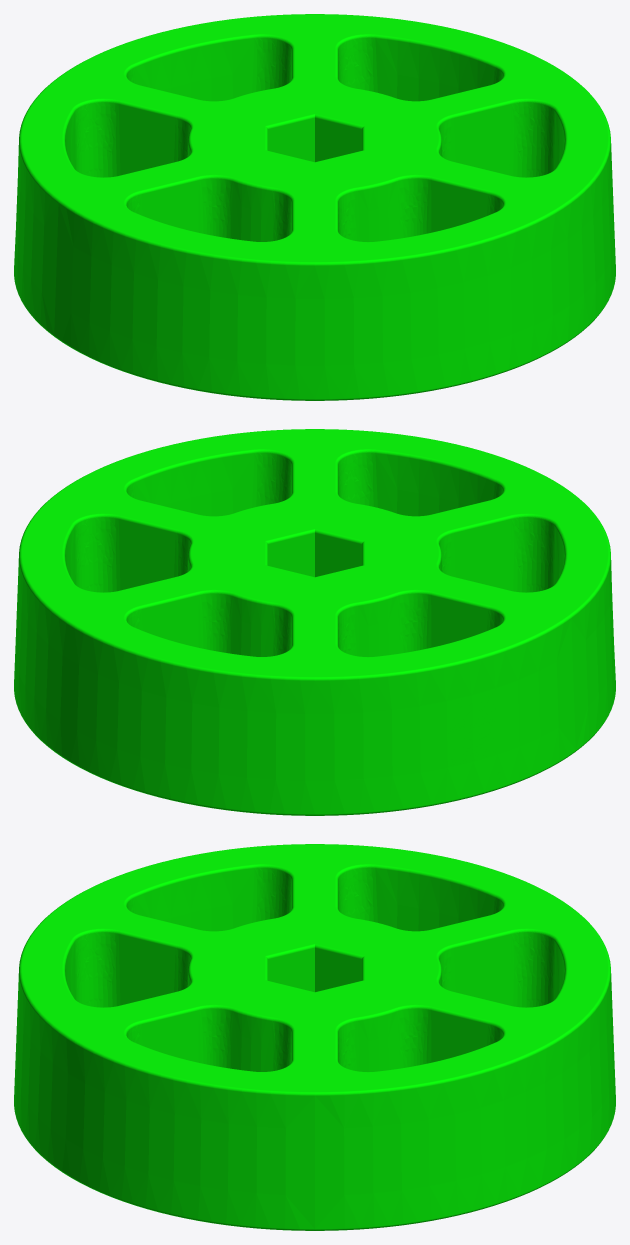
File: model_web.glb
3 views of the same model, one above another, from view 1: azimuth 30°, elevation 25°; view 2: azimuth 150°, elevation 25°; view 3: azimuth 270°, elevation 25° (orthographic).
Parts seen in each view (by area): view 1: Node1; view 2: Node1; view 3: Node1.
Part boxes in pixels (box(x1,y1,x2,y2)): Node1: box(14, 14, 615, 400); Node1: box(14, 429, 615, 815); Node1: box(14, 844, 615, 1230).
Bounding box in the file's own units: 50.78 × 12.7 × 50.77.
